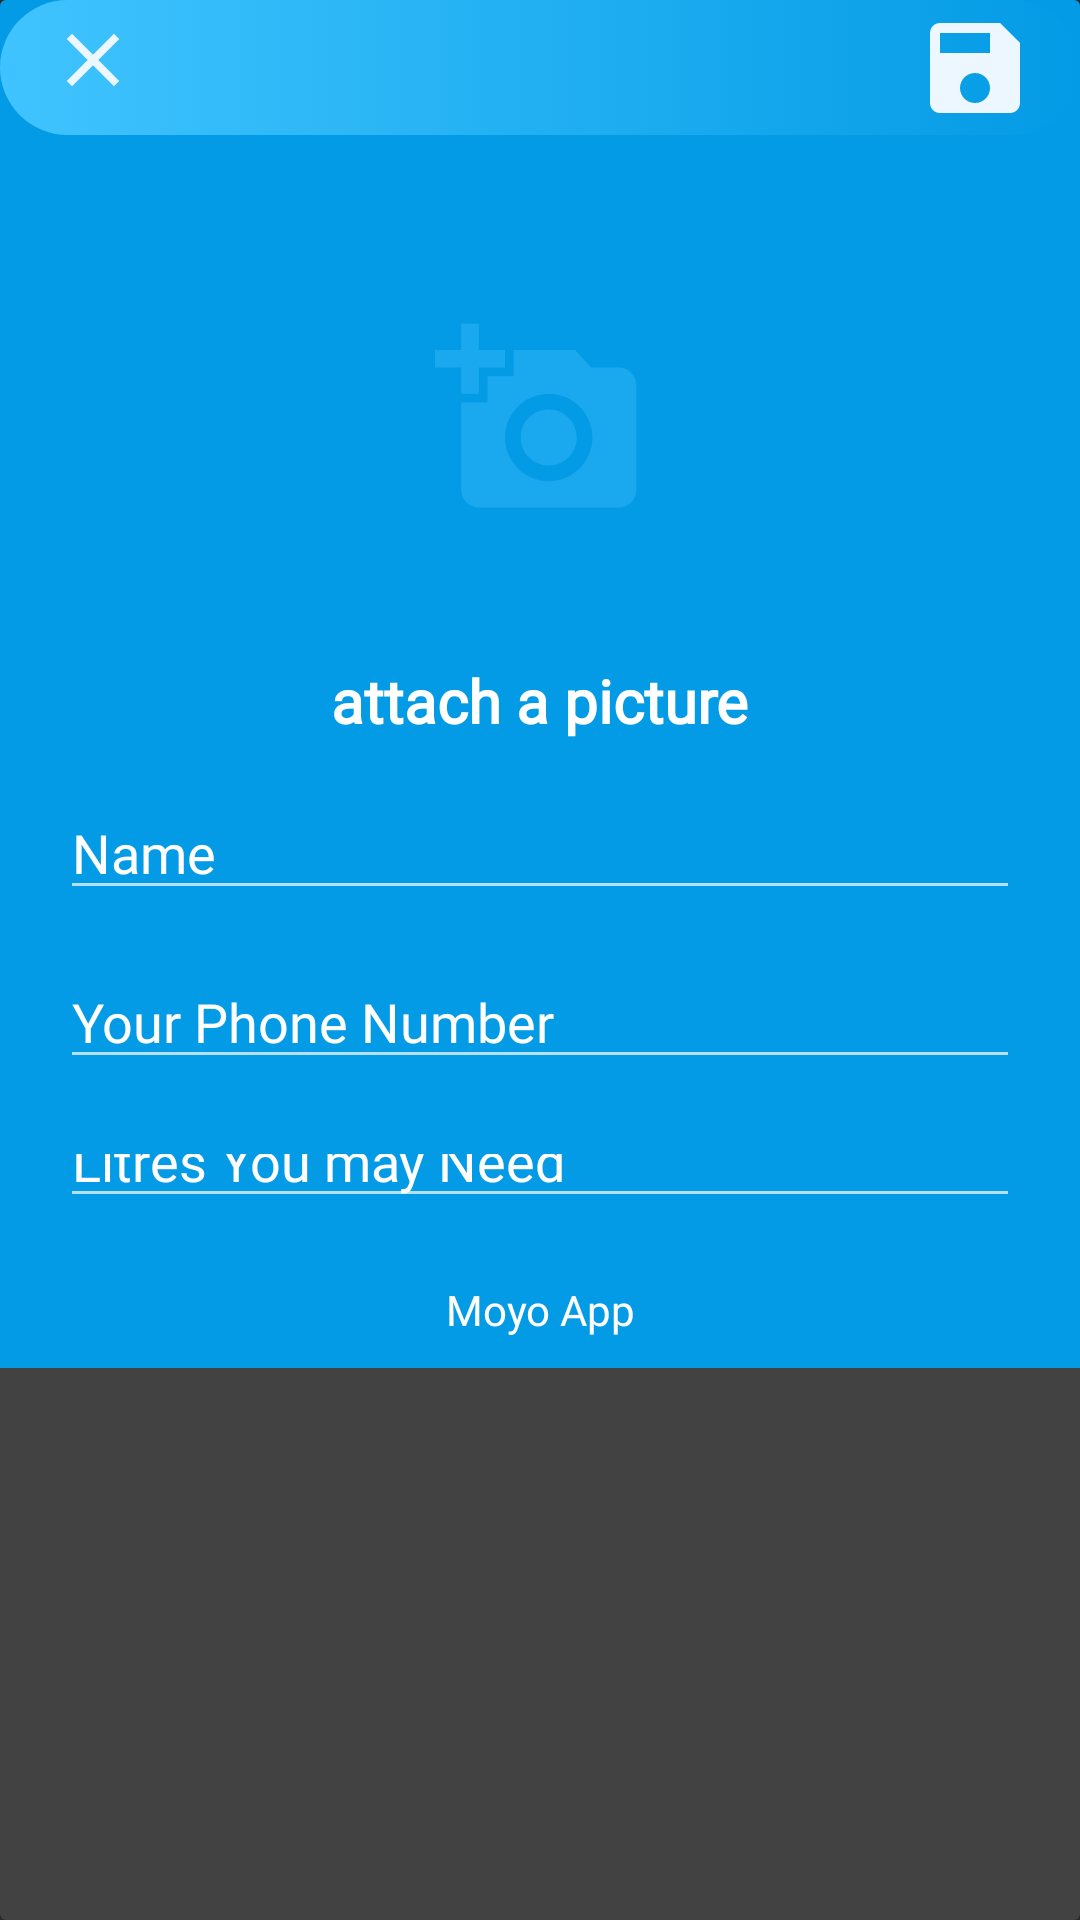

Screen size 1080×1920. Icon name, then its box in pixels as [x1=x1, y1=y1, x2=x2, y2=y2]:
cancel: [x1=67, y1=34, x2=119, y2=86]
save edited info: [x1=930, y1=23, x2=1020, y2=113]
